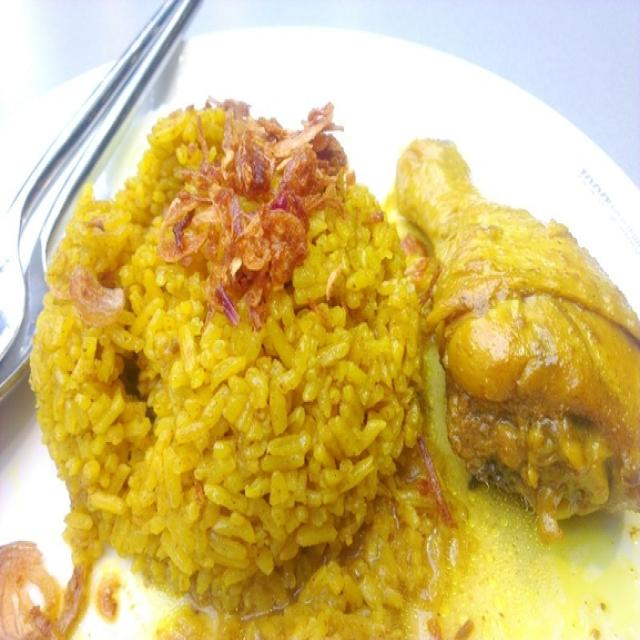米饭主食: (3, 24, 628, 625)
